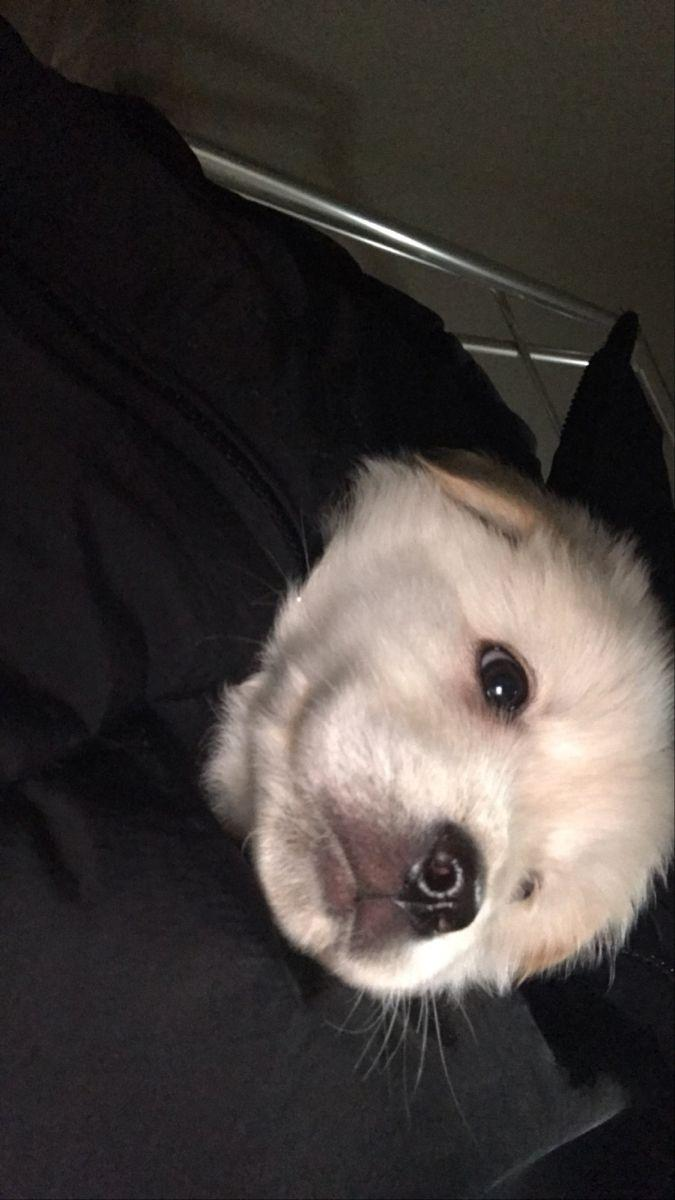puppy-dog: (198, 442, 675, 1015)
